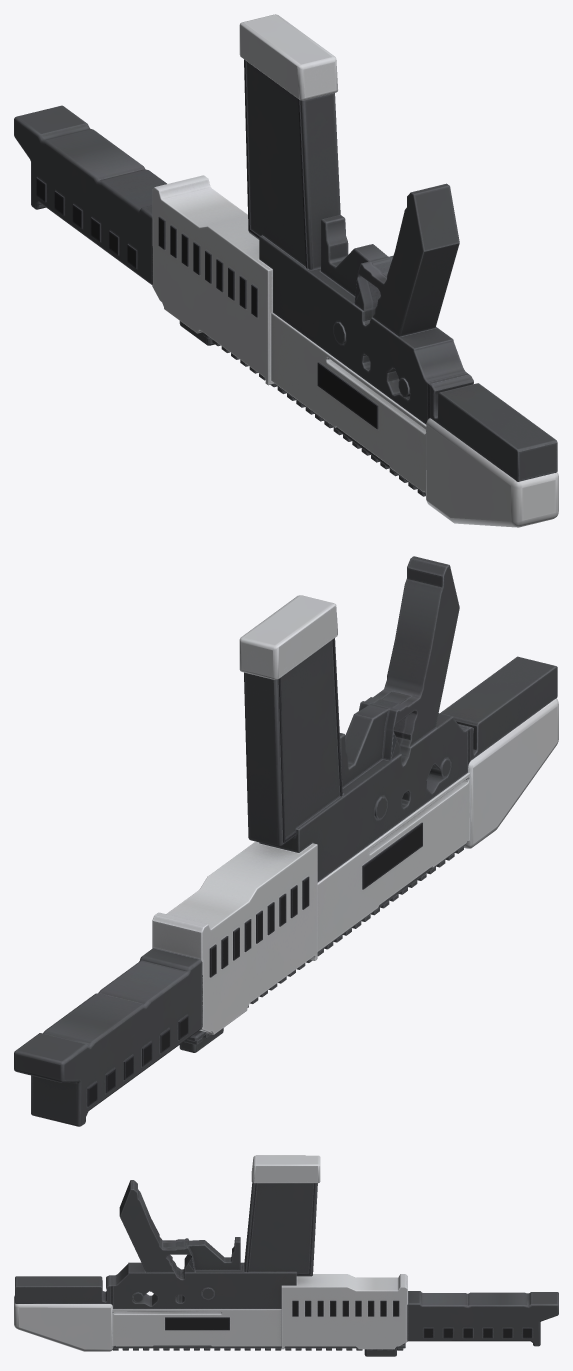
The model's file is AT_Komodo.fbx.
3 views of the same model, one above another, from view 1: azimuth 30°, elevation 25°; view 2: azimuth 150°, elevation 25°; view 3: azimuth 270°, elevation 25° (orthographic). The views are drawn at different scales.
Visible parts, largest first — view 1: AT_Komodo_export; view 2: AT_Komodo_export; view 3: AT_Komodo_export.
Boxes of the visible parts, box(x1,y1,x2,y2) form: AT_Komodo_export: box(14, 14, 558, 527); AT_Komodo_export: box(14, 556, 558, 1126); AT_Komodo_export: box(14, 1155, 558, 1356).
Bounding box in the file's own units: 0.0314 × 0.52 × 0.2049.
